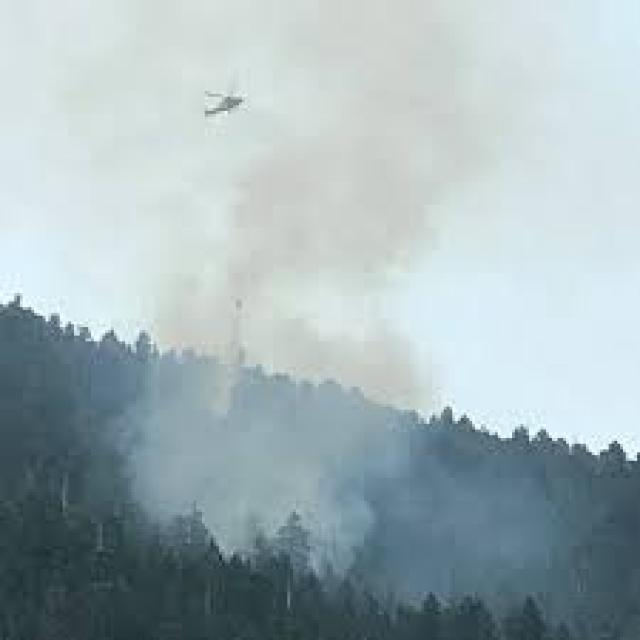Smoke: (102, 356, 428, 582)
